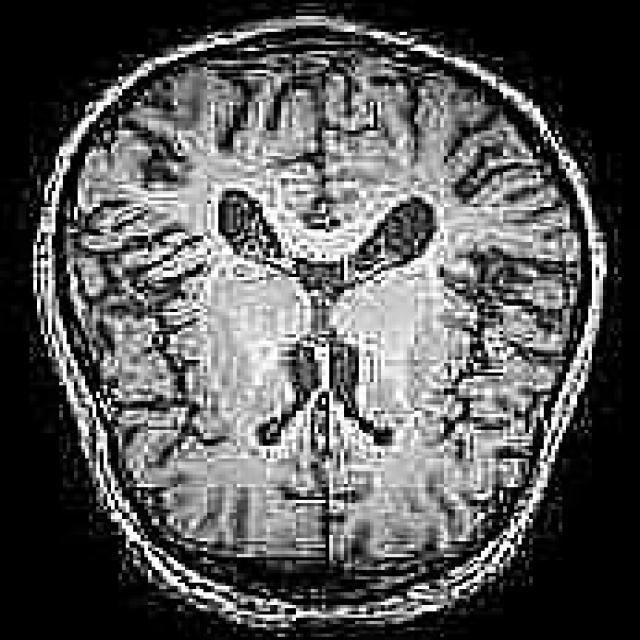notumor: (34, 18, 638, 637)
